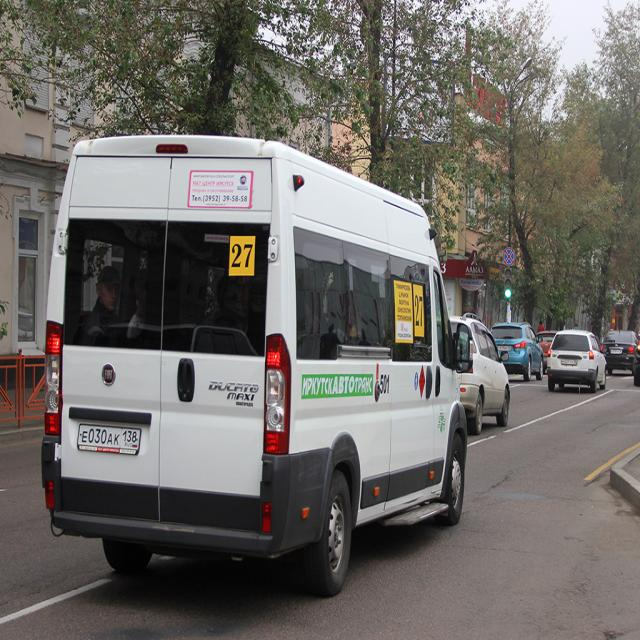number-of-bus: (231, 242, 254, 271), (415, 293, 426, 329)
